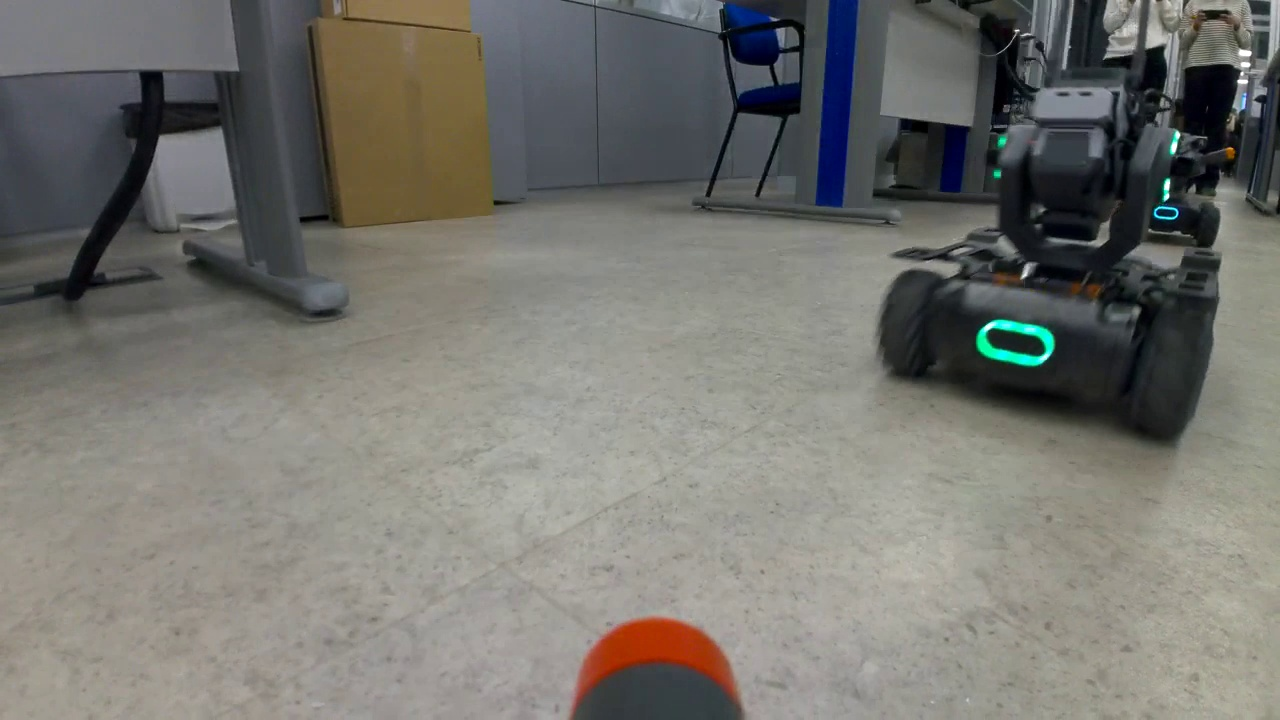robot: (873, 83, 1231, 450), (1148, 128, 1229, 250)
